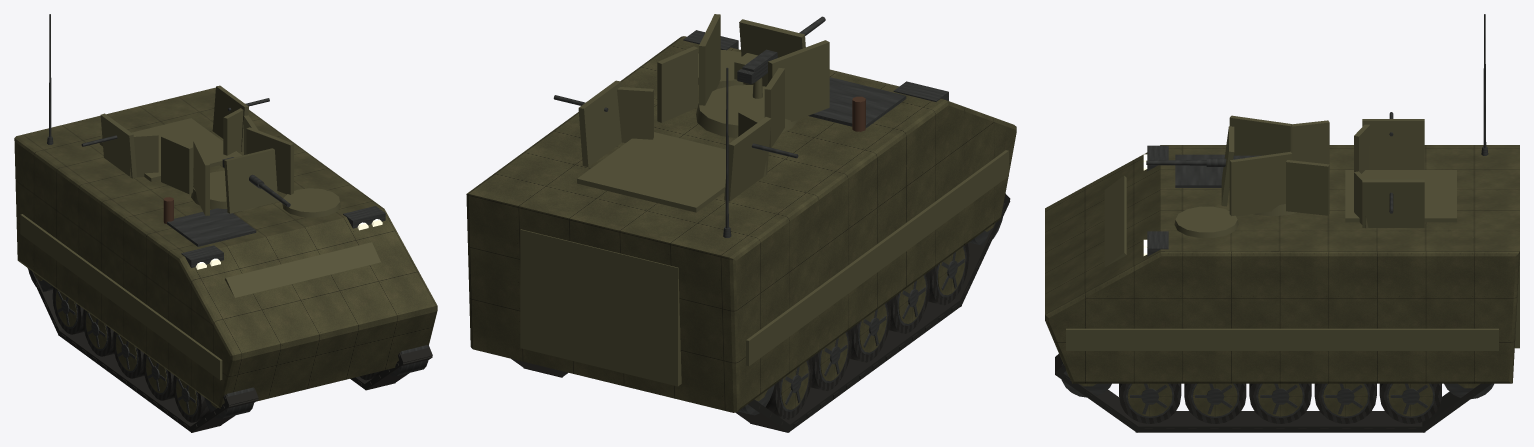
The model's file is m113_acav_lod0.glb.
The picture shows the model from 3 angles, left to right: view 1: azimuth 30°, elevation 25°; view 2: azimuth 150°, elevation 25°; view 3: azimuth 270°, elevation 25°; orthographic projection. The views are drawn at different scales.
Visible parts, largest first — view 1: M113_ACAV; view 2: M113_ACAV; view 3: M113_ACAV.
Boxes of the visible parts, <box> form: M113_ACAV: <box>14,14,437,432</box>; M113_ACAV: <box>466,14,1016,432</box>; M113_ACAV: <box>1045,14,1519,432</box>.
Size of the model in its own units: 2.72 by 3.64 by 4.88.
7 materials, 3 textured.
